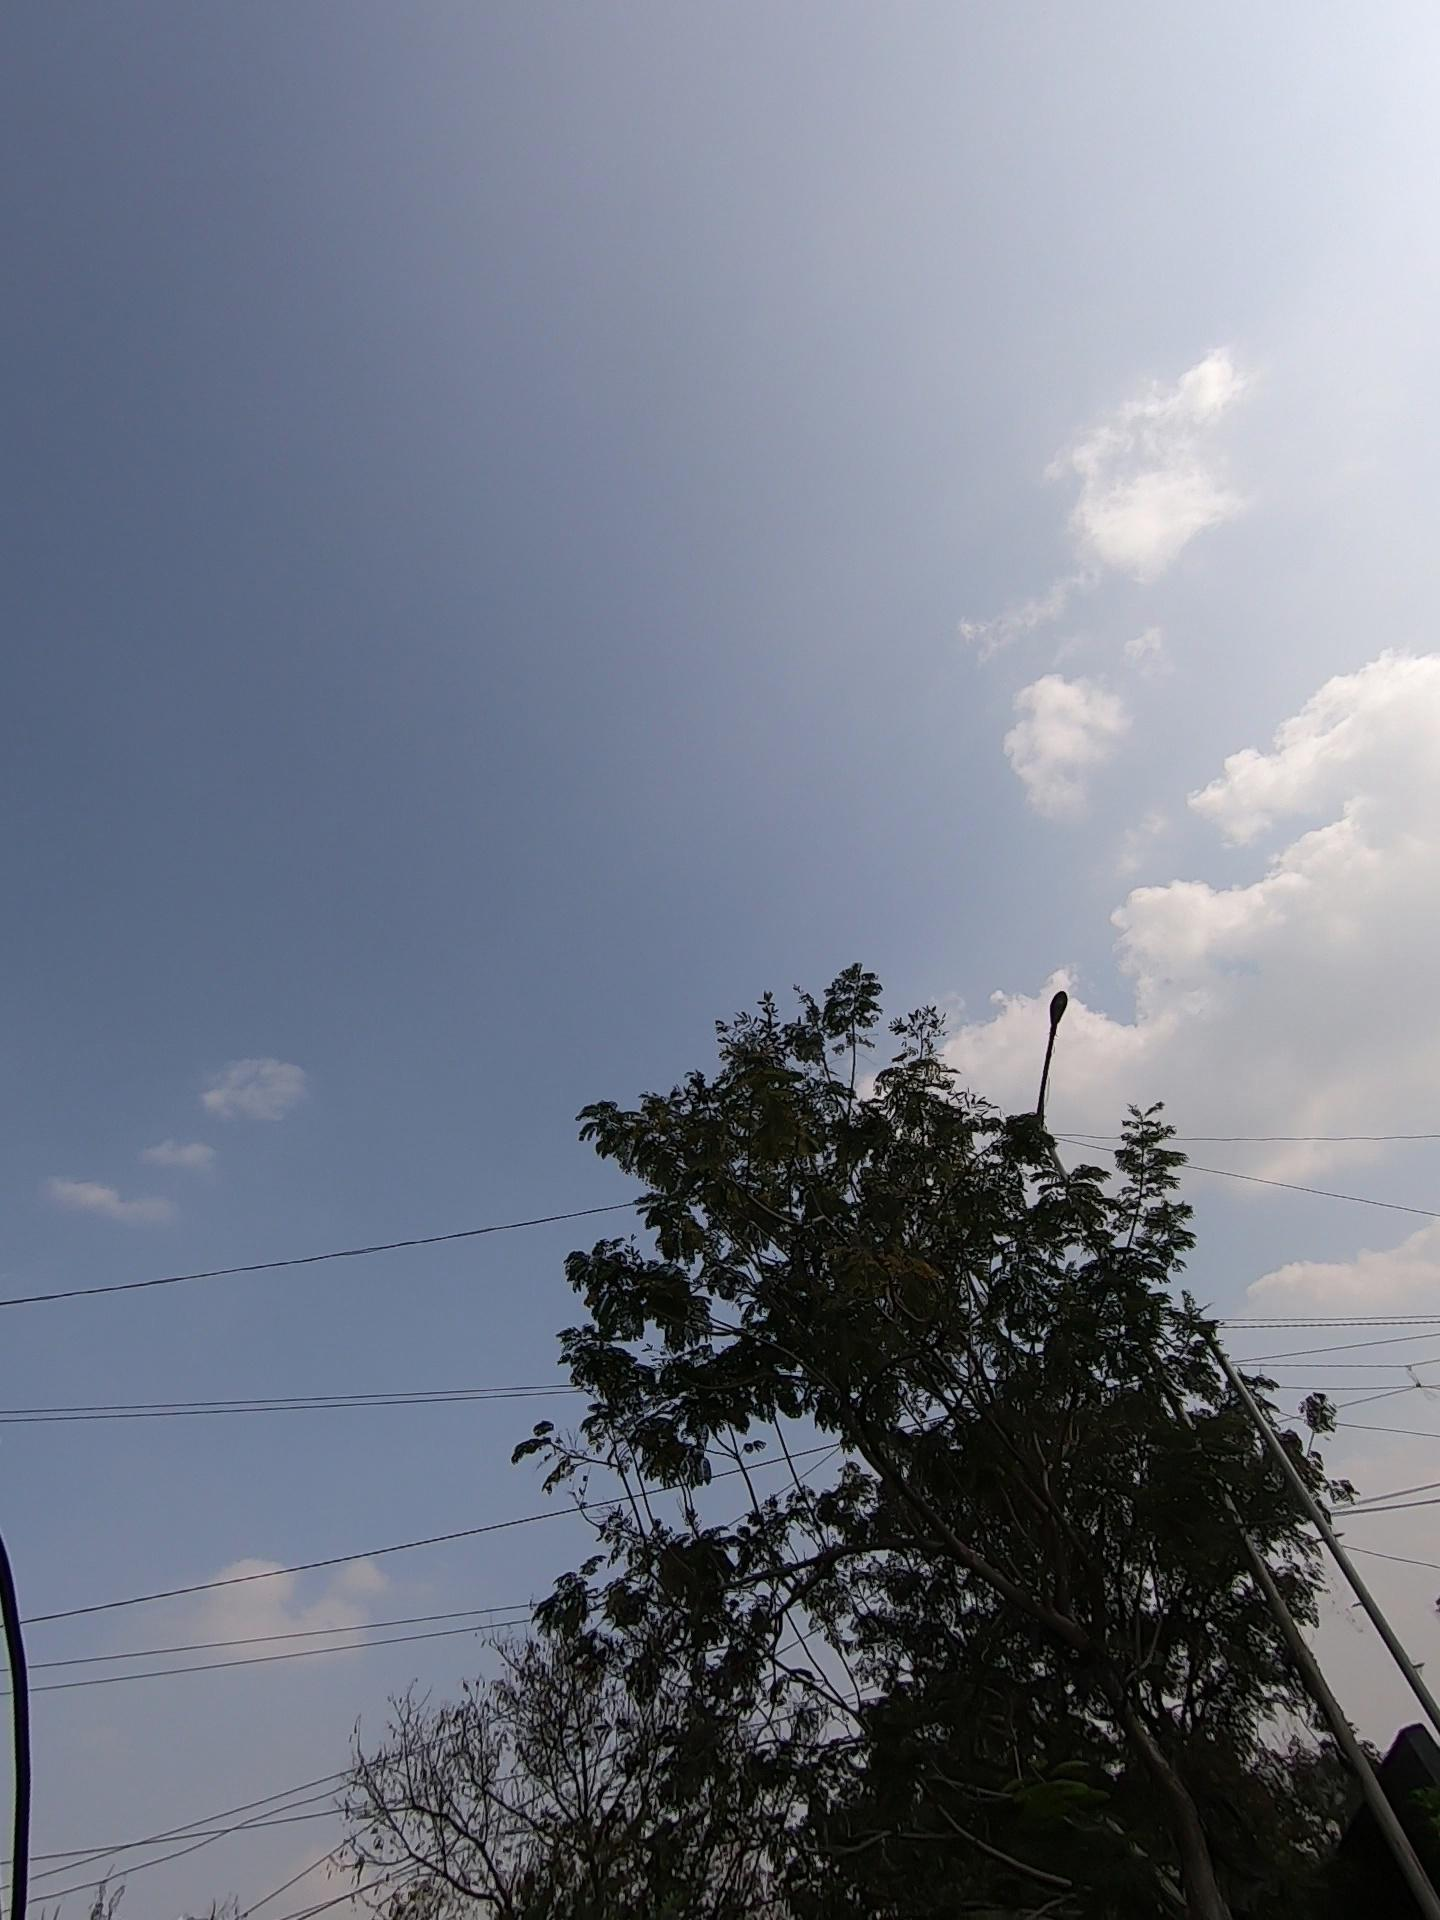off: (939, 966, 1183, 1155)
